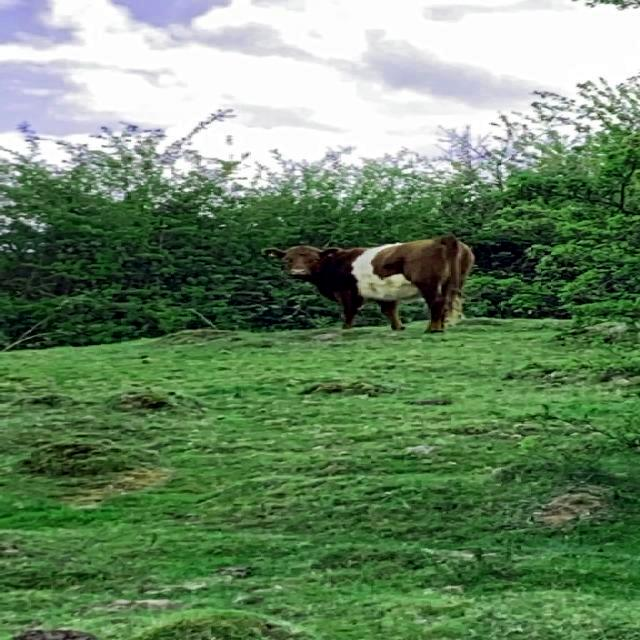COW: (264, 245, 420, 329)
